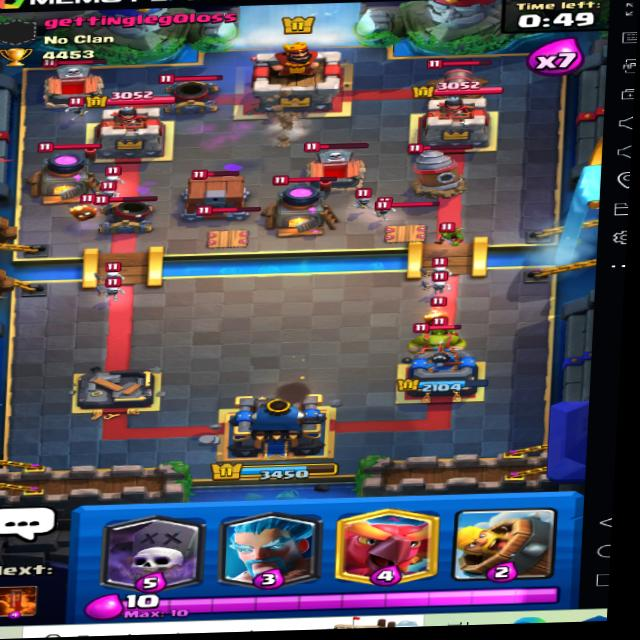brawler: (409, 318, 473, 359)
cannon: (419, 55, 493, 109)
fire-spirit: (69, 199, 108, 224), (427, 298, 459, 326)
furnace: (257, 172, 351, 236), (25, 141, 102, 199)
goblin: (429, 223, 468, 247)
goblin-cage: (165, 167, 260, 224)
goblin-drill: (402, 140, 469, 197)
mortar: (86, 187, 160, 240), (155, 68, 226, 115)
skeleton: (63, 90, 95, 124), (424, 271, 454, 294), (99, 166, 134, 185), (346, 191, 377, 212), (426, 258, 454, 281), (97, 278, 125, 300), (94, 263, 124, 279), (95, 188, 121, 205)
tesla-closed: (194, 202, 267, 250), (372, 197, 442, 246)
tombstone: (40, 57, 119, 109), (300, 137, 374, 187)
trail: (250, 97, 312, 156)
